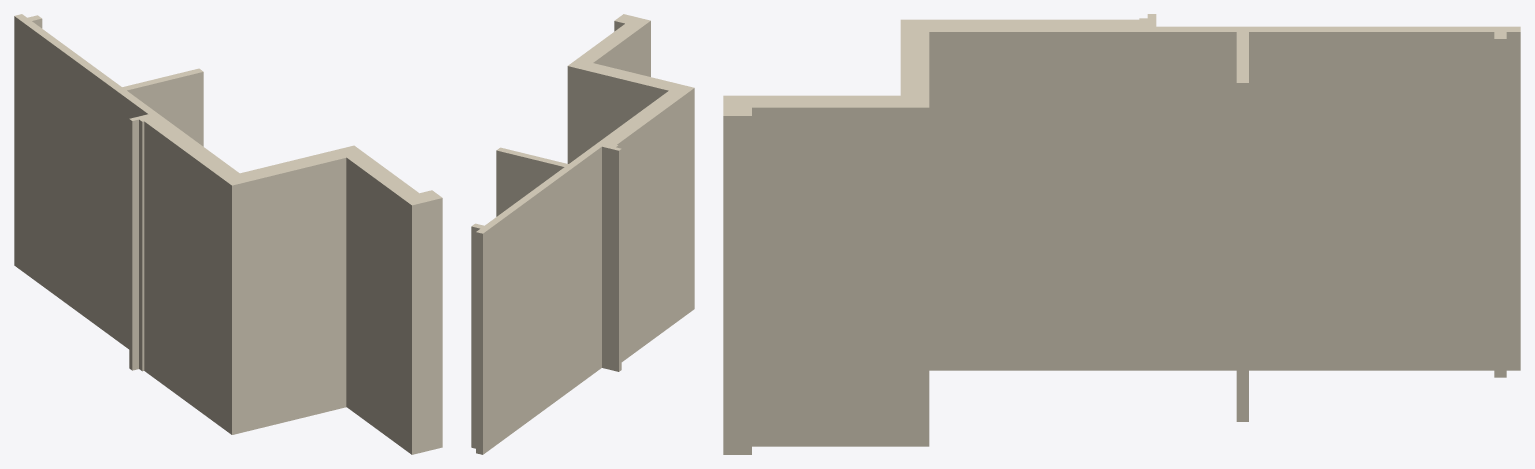
The picture shows the model from 3 angles, left to right: view 1: azimuth 30°, elevation 25°; view 2: azimuth 150°, elevation 25°; view 3: azimuth 270°, elevation 25°; orthographic projection. The views are drawn at different scales.
Parts seen in each view (by area): view 1: A-GF-WALL-029; view 2: A-GF-WALL-029; view 3: A-GF-WALL-029.
Part boxes in pixels (x1,y1,x2,y2): A-GF-WALL-029: [14, 14, 442, 454]; A-GF-WALL-029: [471, 14, 694, 454]; A-GF-WALL-029: [723, 14, 1520, 454].
Bounding box in the file's own units: 1.76 × 2.72 × 5.8.
